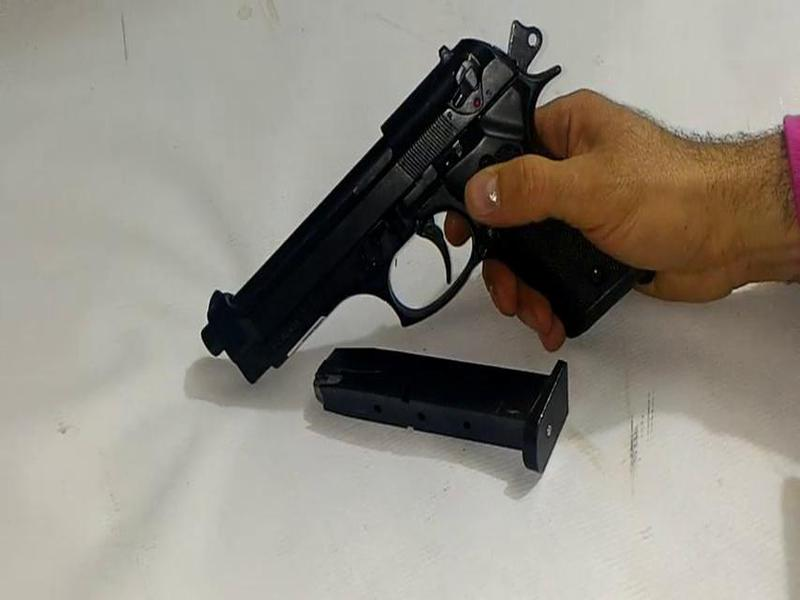Pistola: (164, 14, 642, 381)
